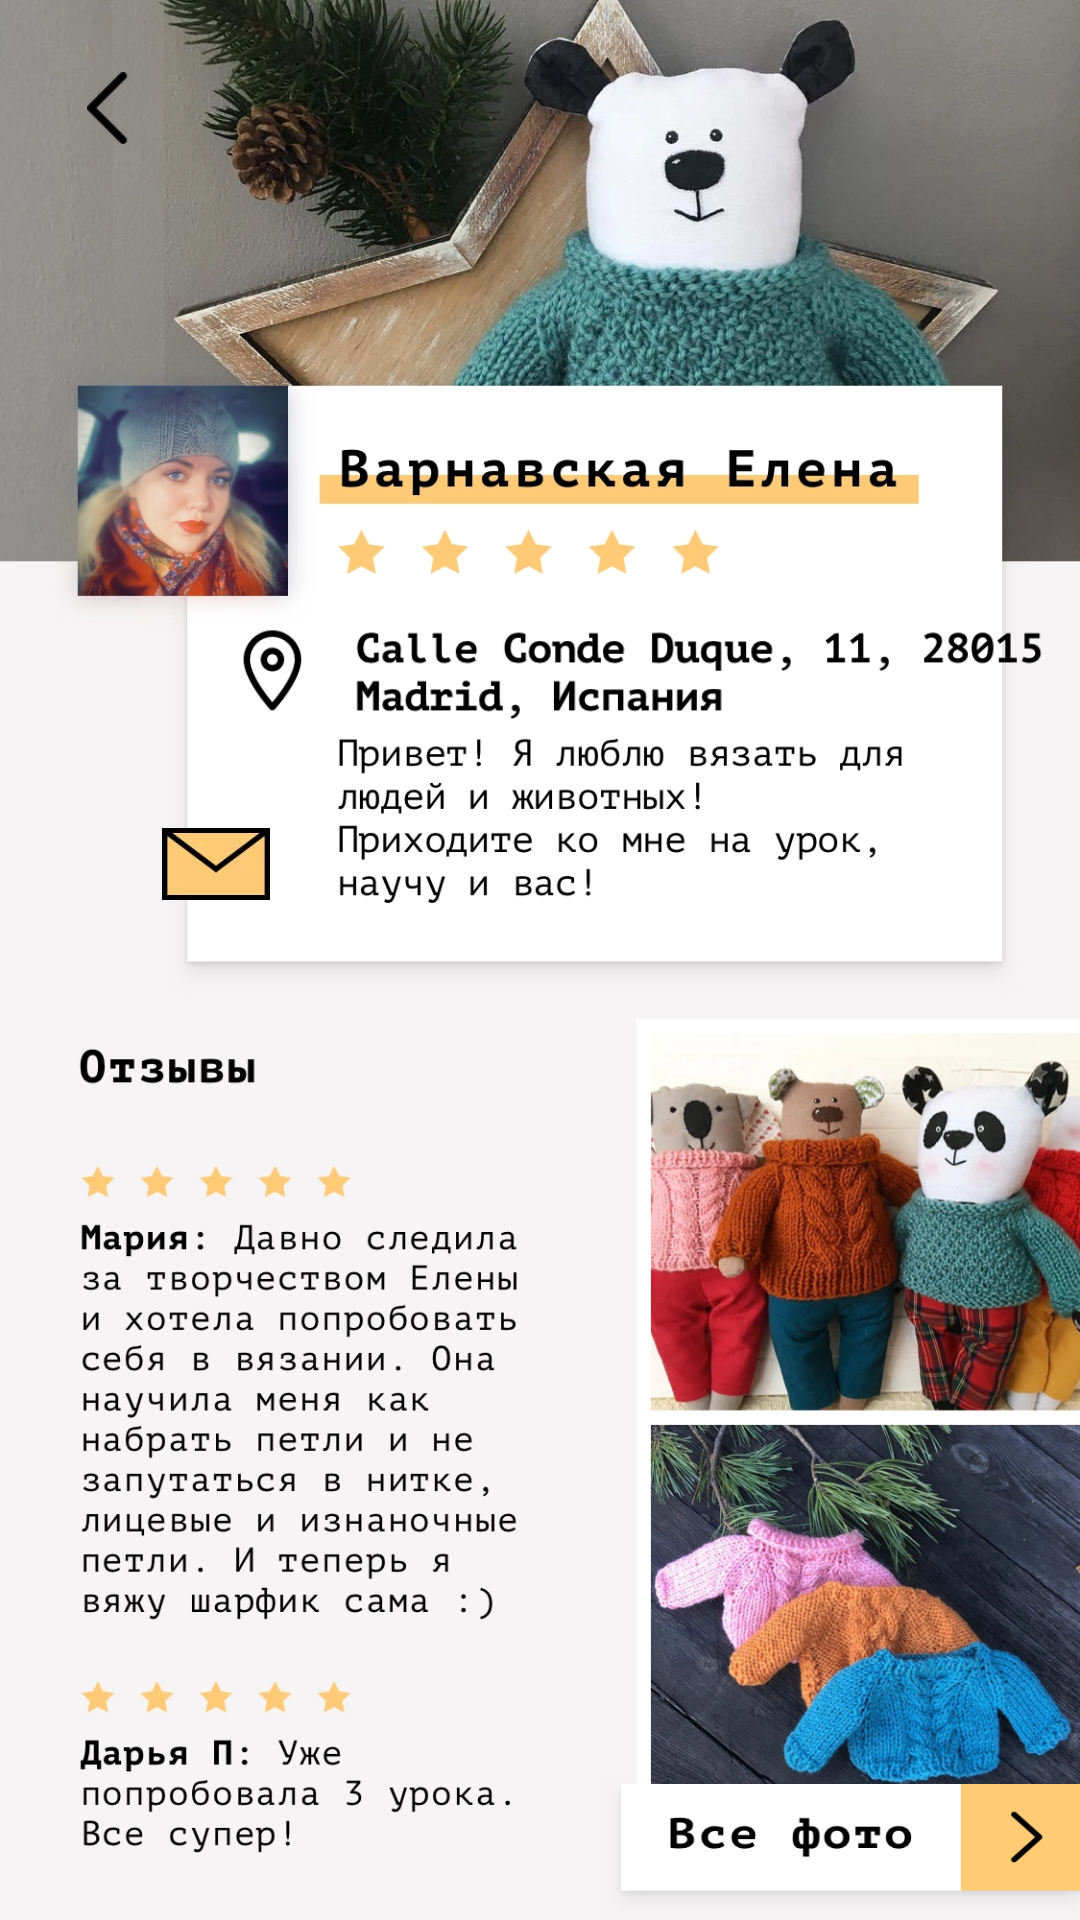

Locate icon controls on the screen. Image size 1080*1920, boxes as (x1, y1, x2, y2).
arrow back: (87, 72, 128, 144)
sent: (162, 810, 270, 918)
